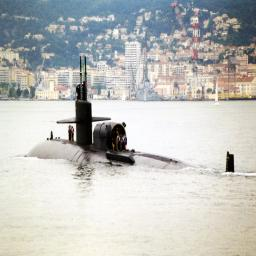submarine: (27, 56, 235, 174)
